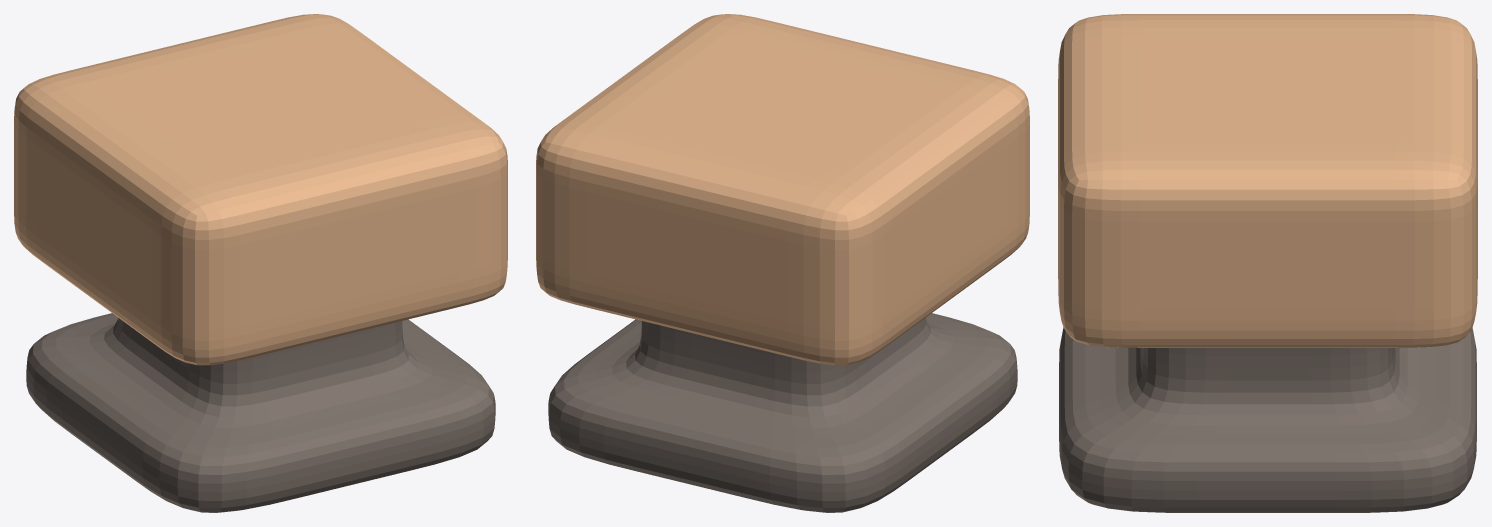
Rendered from Table_Rect.fbx.
The picture shows the model from 3 angles, left to right: view 1: azimuth 30°, elevation 25°; view 2: azimuth 150°, elevation 25°; view 3: azimuth 270°, elevation 25°; orthographic projection. The views are drawn at different scales.
Visible parts, largest first — view 1: 큐브.012; view 2: 큐브.012; view 3: 큐브.012.
Boxes of the visible parts, x1,y1,x2,y2 form: 큐브.012: (14,14,507,512); 큐브.012: (536,14,1029,512); 큐브.012: (1058,14,1477,512).
Size of the model in its own units: 291 by 269 by 291.
